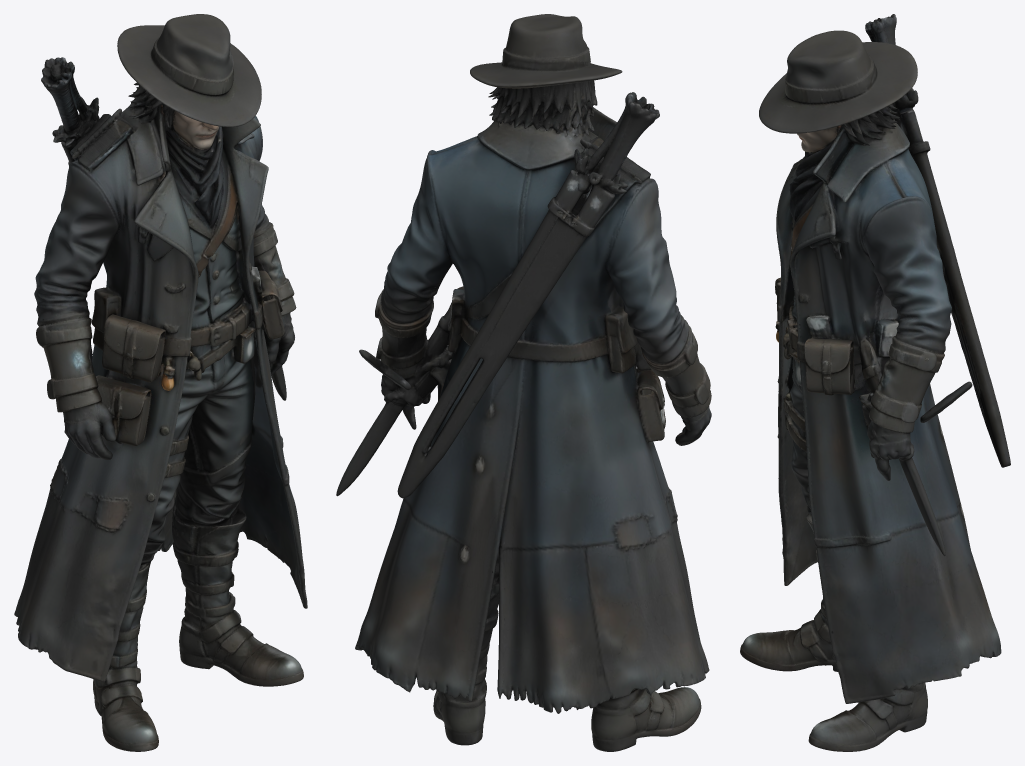
3 views of the same model, side by side, from view 1: azimuth 30°, elevation 25°; view 2: azimuth 150°, elevation 25°; view 3: azimuth 270°, elevation 25° (orthographic). The views are drawn at different scales.
Parts seen in each view (by area): view 1: mesh_0; view 2: mesh_0; view 3: mesh_0.
Part boxes in pixels (left/top/right/bottom): mesh_0: left=14, top=14, right=307, bottom=751; mesh_0: left=336, top=14, right=711, bottom=751; mesh_0: left=740, top=14, right=1010, bottom=751.
Bounding box in the file's own units: 0.9512 × 2 × 0.7379.
1 material, 1 textured.
